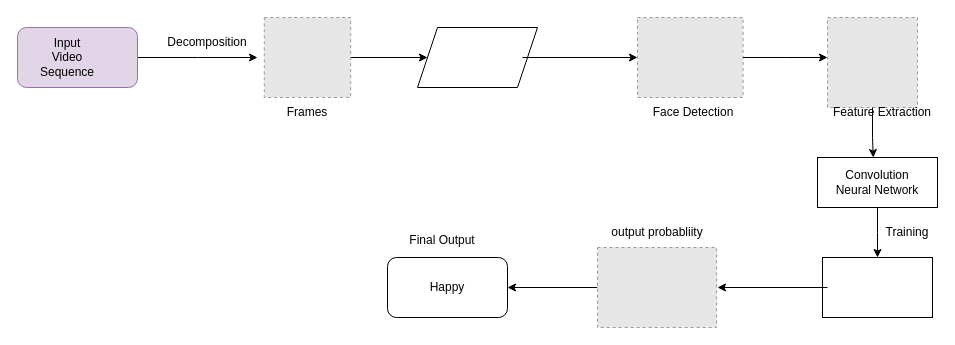
This 955x345 diagram has some shape labels left out. Grey dashed boxes stand in for pictures. Each missing label, with the box of its shape:
Pre Processing: (416, 26, 538, 88)
Well-Performed CNN: (822, 256, 932, 318)
